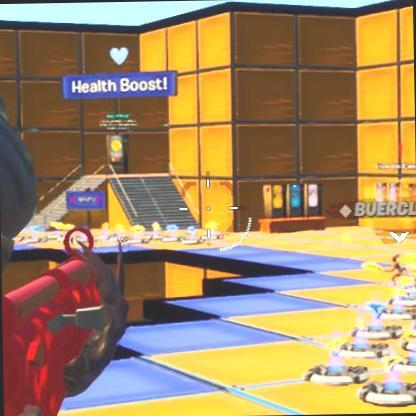person: (0, 222, 132, 416), (387, 254, 405, 281)
